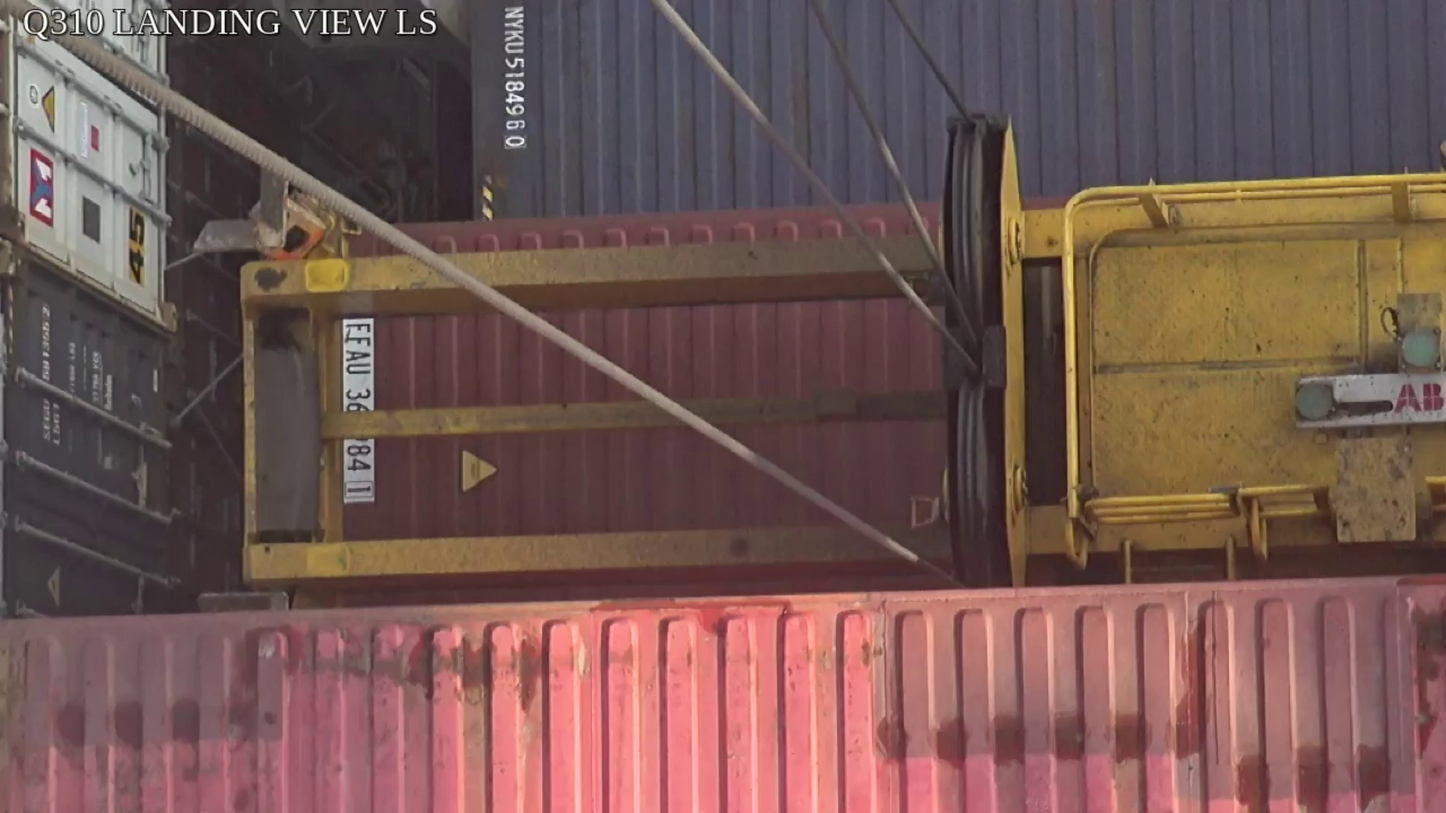aa: (939, 117, 1029, 586)
